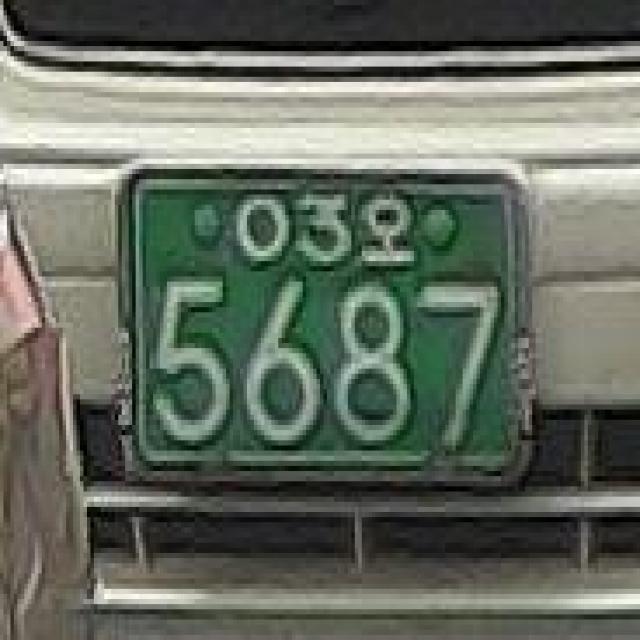illegal_plate: (101, 144, 547, 512)
